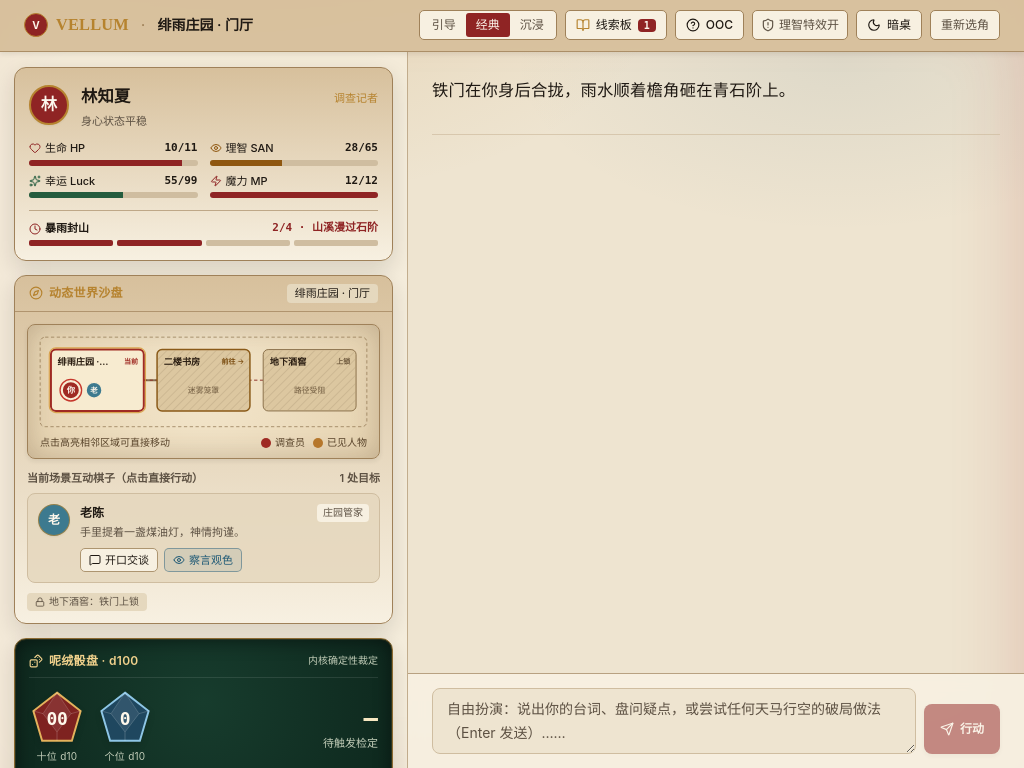
WorkspaceFlow end-to-end UI interactions › toggles light/dark theme on documentElement and switches low-SAN visual effects on/off
Check: the text "铁门在你身后合拢，雨水顺着檐角砸在青石阶上。" is shown, box [432, 81, 795, 100]
Toggle to dark theme (雨夜侦探稿)
Click the button with aria-label "切换到雨夜夜间模式" at (889,25), box [856, 10, 922, 40]
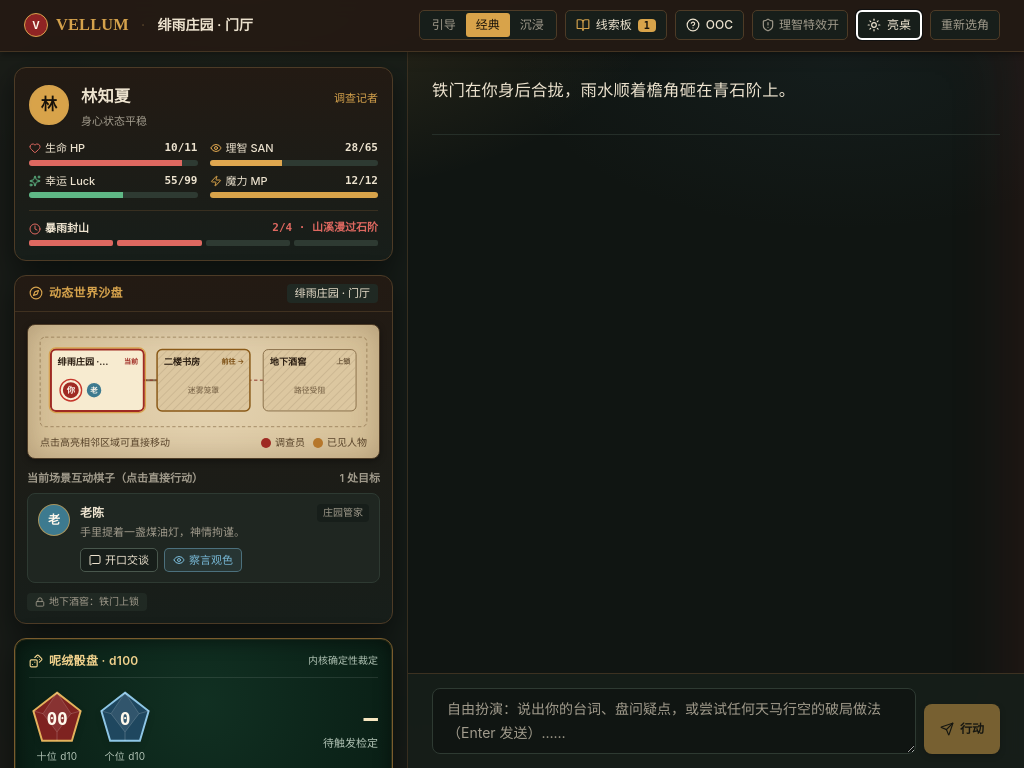
Toggle back to light theme (纸墨档案室)
Click the button with aria-label "切换到纸墨白天模式" at (889,25), box [856, 10, 922, 40]
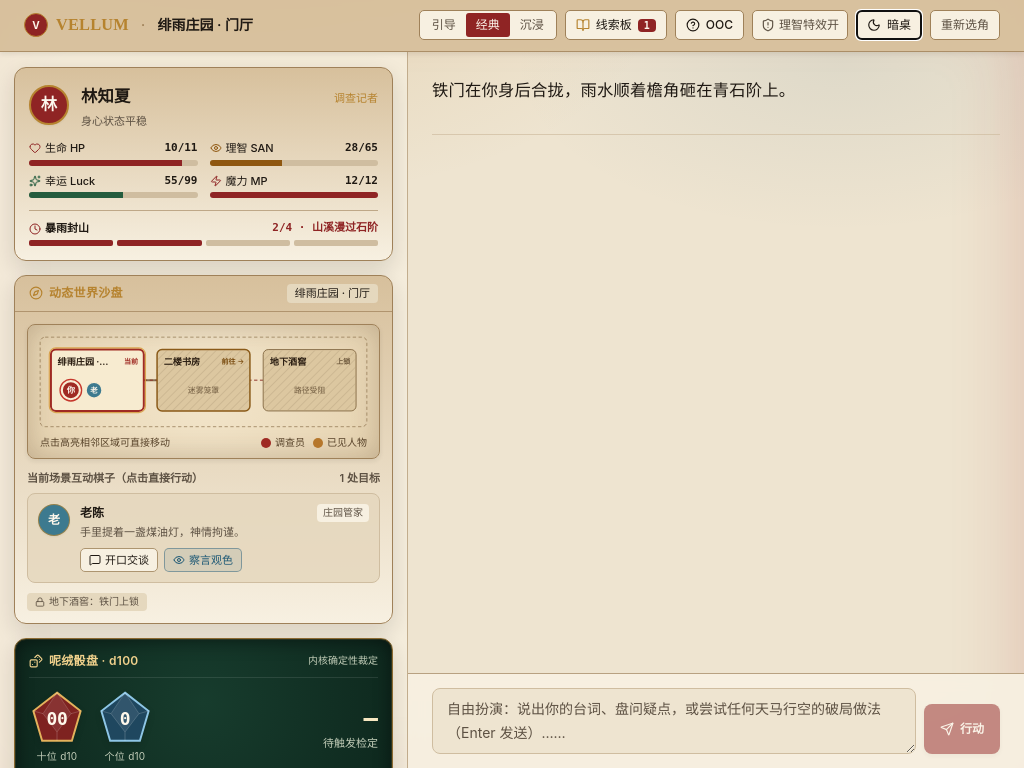
Toggle low-SAN visual effect off and back on
Click the button titled "点击关闭低理智视觉效果" at (800,25), box [752, 10, 848, 40]
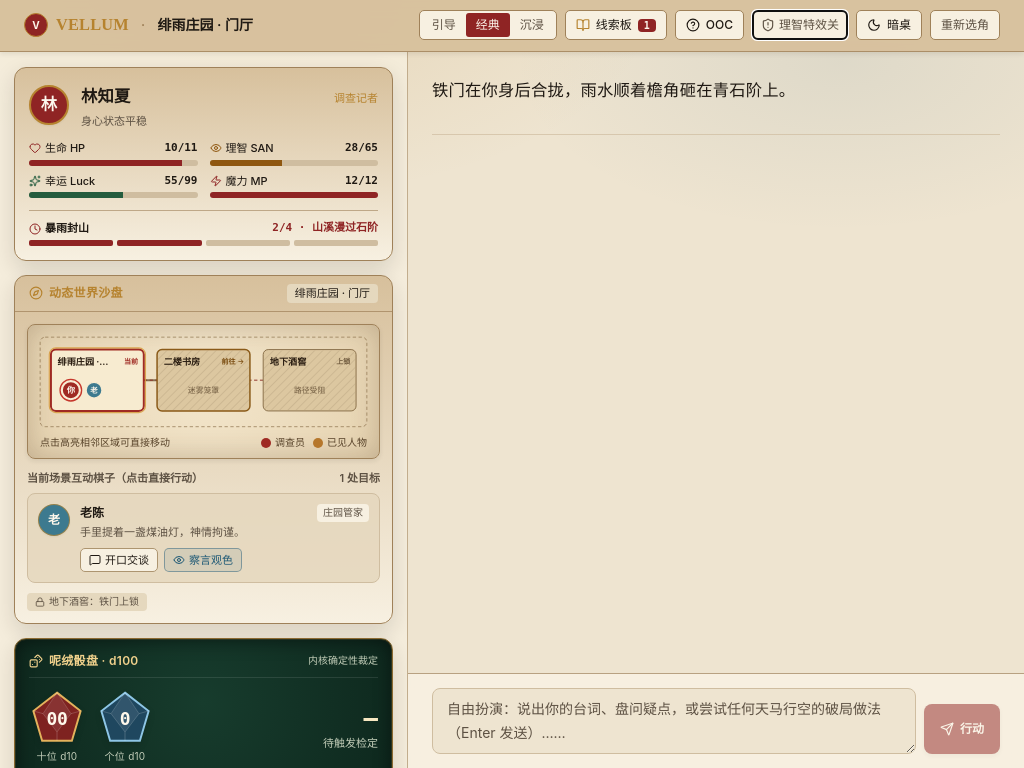
Check: the element with test id "atmosphere-layer" has attribute data-low-san-fx="off"
Click the button titled "点击开启低理智视觉效果" at (800,25), box [752, 10, 848, 40]
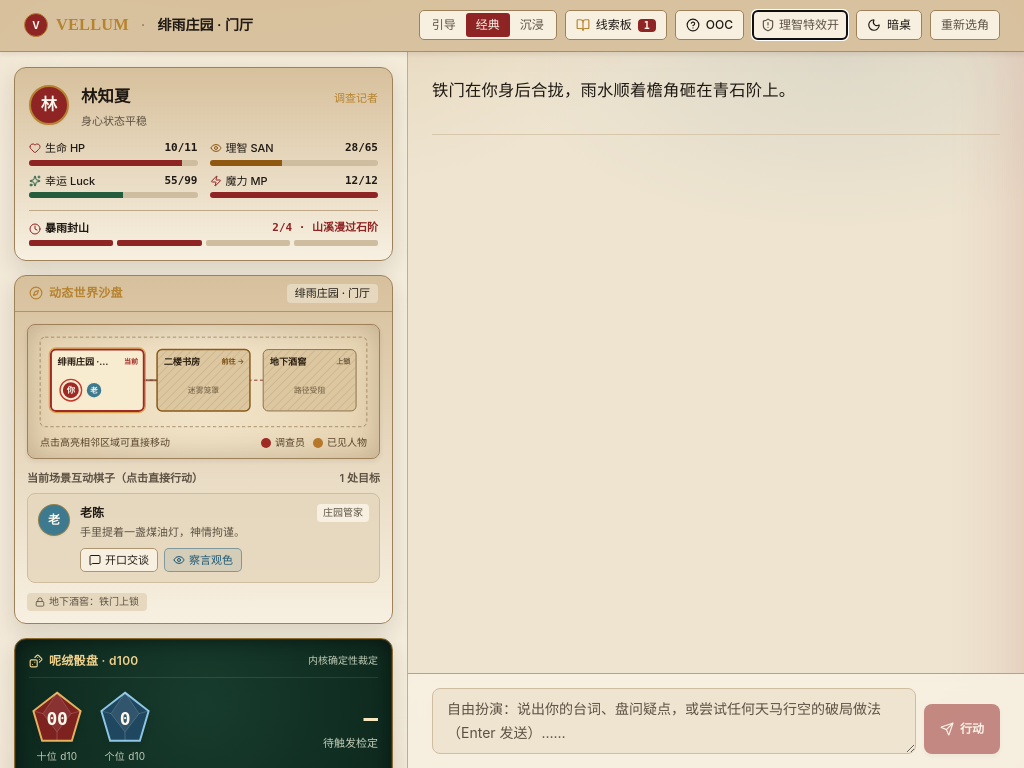
Check: the element with test id "atmosphere-layer" has attribute data-low-san-fx="on"
